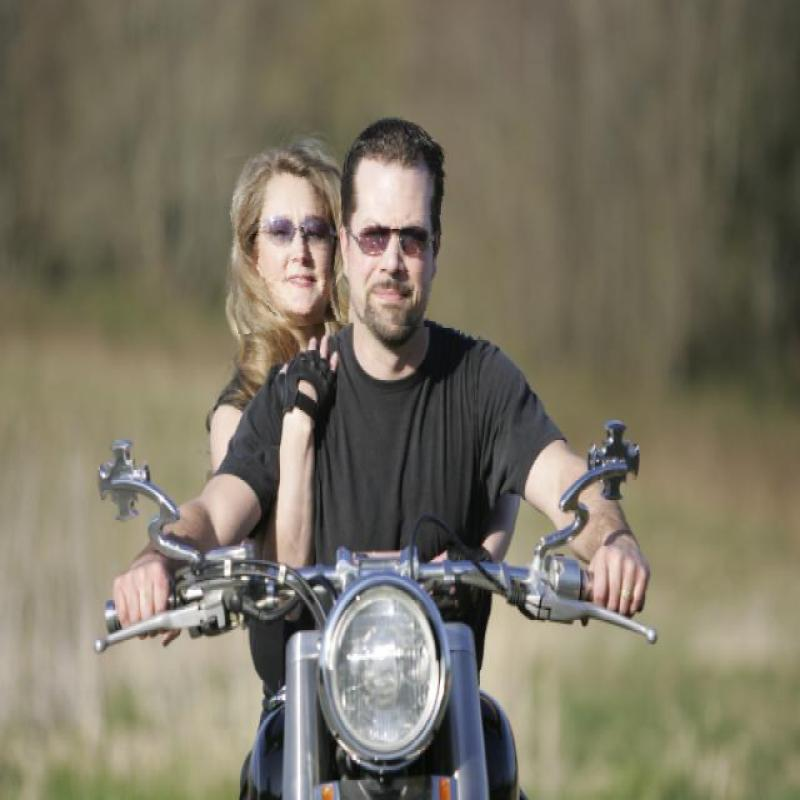nohelmet: (340, 121, 461, 328), (220, 148, 336, 331)
